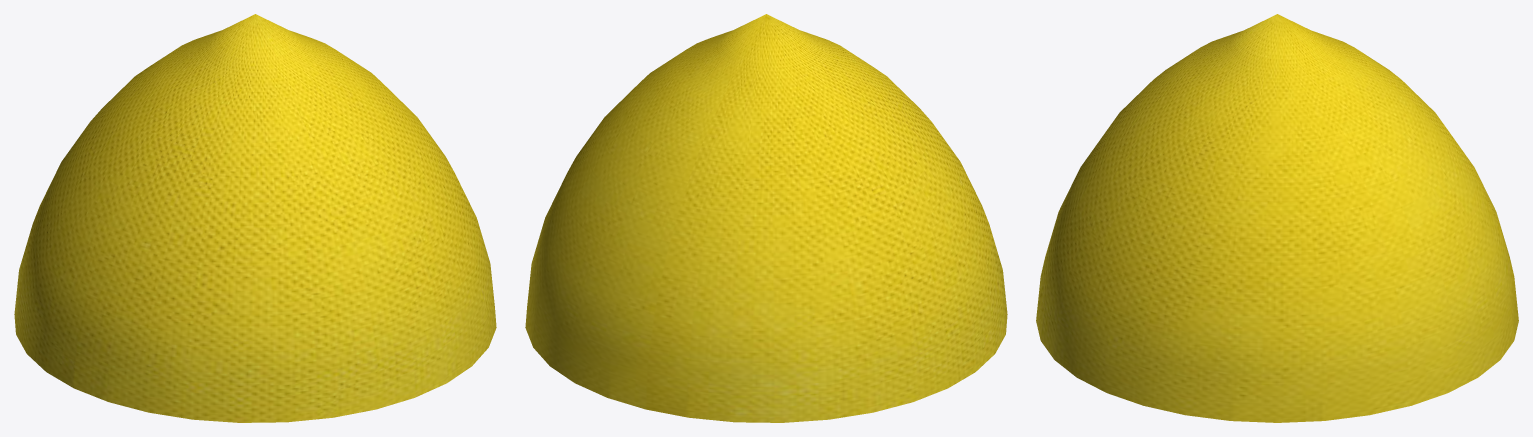
The model's file is lemon_half2.obj.
3 views of the same model, side by side, from view 1: azimuth 30°, elevation 25°; view 2: azimuth 150°, elevation 25°; view 3: azimuth 270°, elevation 25° (orthographic).
Visible parts, largest first — view 1: Sphere01; view 2: Sphere01; view 3: Sphere01.
Part boxes in pixels (x1=…): Sphere01: x1=14, y1=14, x2=496, y2=422; Sphere01: x1=525, y1=14, x2=1007, y2=422; Sphere01: x1=1036, y1=14, x2=1518, y2=422.
Size of the model in its own units: 55.21 by 38.73 by 55.21.
Materials: 2 (2 with a texture image).
